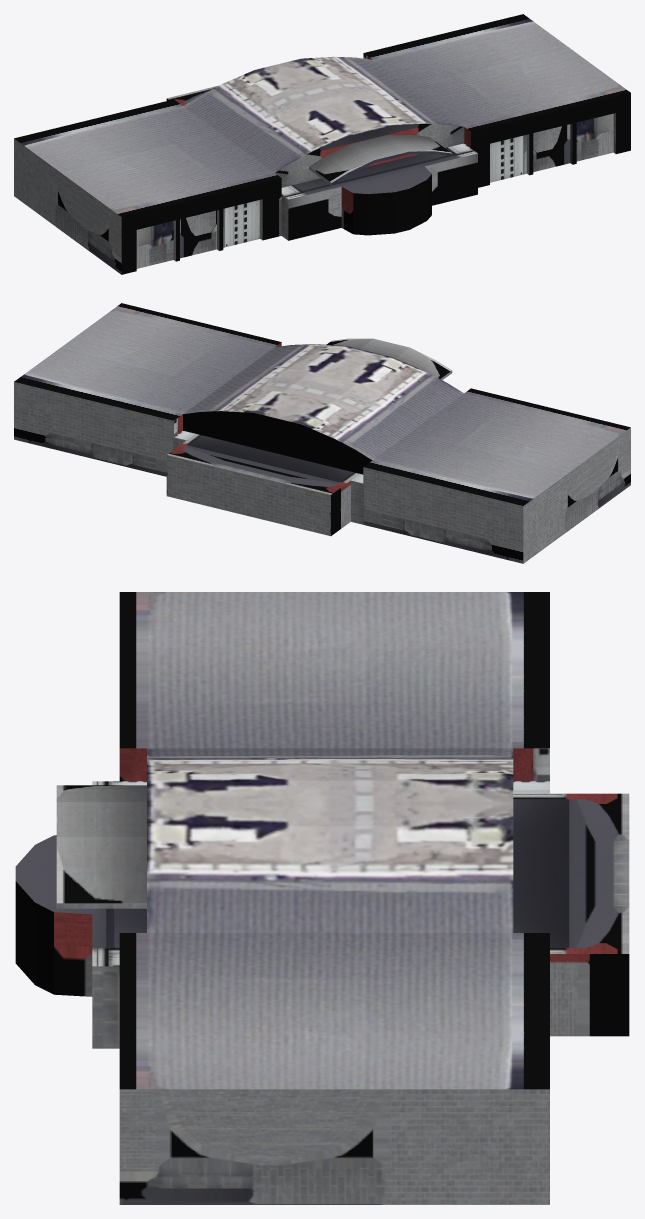
File: FireStation2.exact.glb
The picture shows the model from 3 angles, top to bottom: view 1: azimuth 30°, elevation 25°; view 2: azimuth 150°, elevation 25°; view 3: azimuth 270°, elevation 25°; orthographic projection. The views are drawn at different scales.
Parts seen in each view (by area): view 1: FireStation2; view 2: FireStation2; view 3: FireStation2.
Part boxes in pixels (bbox=[...]): FireStation2: bbox=[14, 14, 630, 274]; FireStation2: bbox=[14, 303, 630, 563]; FireStation2: bbox=[15, 592, 629, 1204].
Bounding box in the file's own units: 64.58 × 9.25 × 33.67.
Materials: 1 (1 with a texture image).
